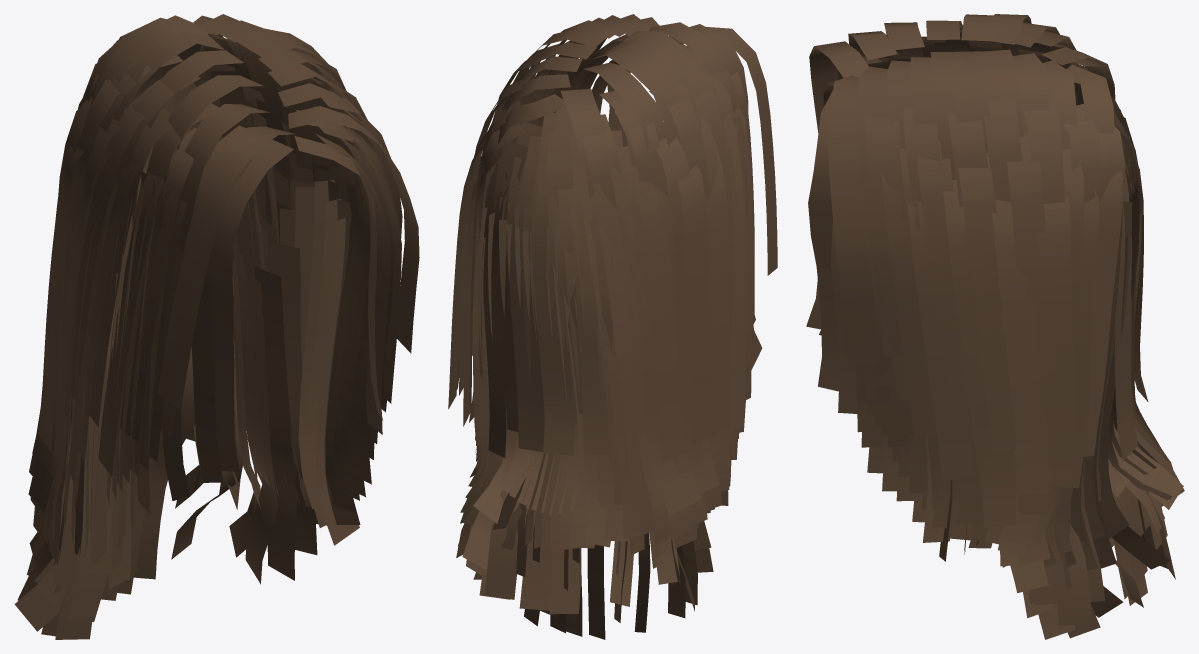
Rendered from arm-c.glb.
3 views of the same model, side by side, from view 1: azimuth 30°, elevation 25°; view 2: azimuth 150°, elevation 25°; view 3: azimuth 270°, elevation 25° (orthographic). The views are drawn at different scales.
Visible parts, largest first — view 1: straight_hair_to_shoulder.002; view 2: straight_hair_to_shoulder.002; view 3: straight_hair_to_shoulder.002.
Boxes of the visible parts, left/top/right/bottom form: straight_hair_to_shoulder.002: left=14, top=14, right=419, bottom=639; straight_hair_to_shoulder.002: left=448, top=14, right=777, bottom=639; straight_hair_to_shoulder.002: left=806, top=14, right=1184, bottom=639.
Size of the model in its own units: 0.197 by 0.3836 by 0.2281.
